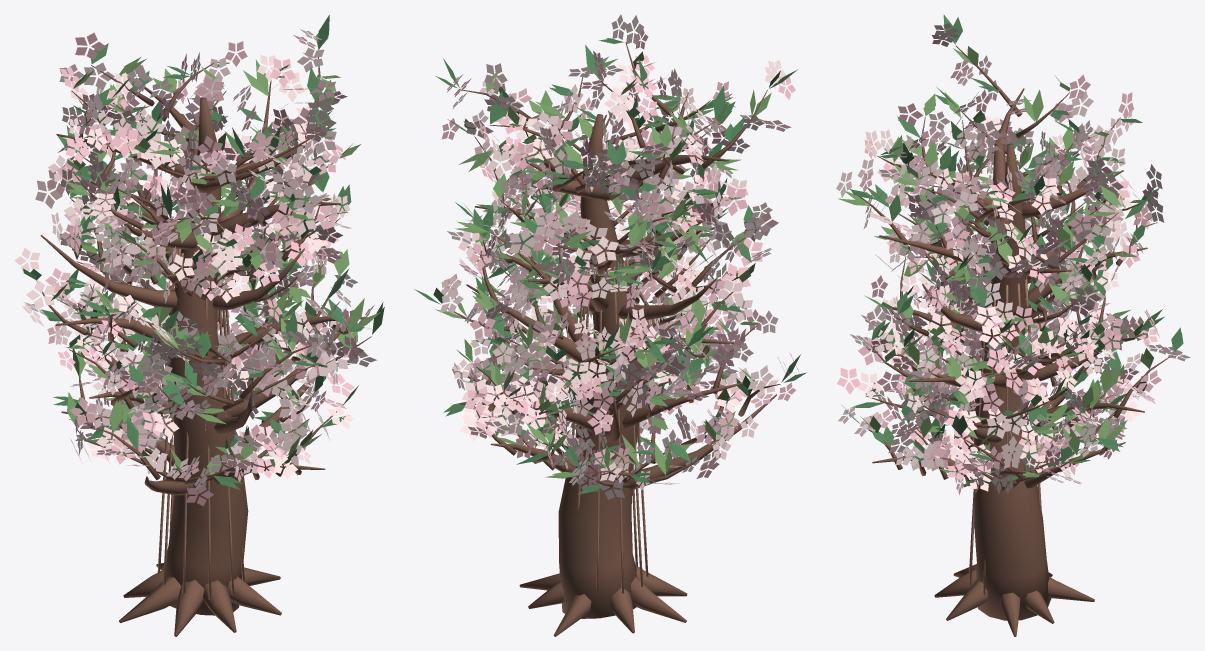
The model's file is flowering.glb.
3 renders of one model, left to right at view 1: azimuth 30°, elevation 25°; view 2: azimuth 150°, elevation 25°; view 3: azimuth 270°, elevation 25°, orthographic. The views are drawn at different scales.
Visible parts, largest first — view 1: Blossoms 2, Flowering trunk and branches, Blossoms 1, Flowering leaves 2, Flowering leaves 1, Flowering raised bark; view 2: Blossoms 2, Flowering trunk and branches, Blossoms 1, Flowering leaves 2, Flowering leaves 1, Flowering raised bark; view 3: Blossoms 2, Flowering trunk and branches, Blossoms 1, Flowering leaves 1, Flowering leaves 2, Flowering raised bark.
Part boxes in pixels (x1,y1,x2,y2): Blossoms 2: [14, 29, 376, 492]; Flowering trunk and branches: [36, 57, 371, 636]; Blossoms 1: [45, 32, 372, 506]; Flowering leaves 2: [23, 14, 384, 489]; Flowering leaves 1: [51, 57, 380, 476]; Flowering raised bark: [157, 248, 244, 600]; Blossoms 2: [440, 14, 790, 499]; Flowering trunk and branches: [447, 42, 780, 636]; Blossoms 1: [441, 29, 799, 489]; Flowering leaves 2: [414, 38, 806, 494]; Flowering leaves 1: [435, 51, 771, 478]; Flowering raised bark: [571, 257, 648, 593]; Blossoms 2: [836, 23, 1190, 493]; Flowering trunk and branches: [850, 45, 1172, 636]; Blossoms 1: [837, 35, 1182, 494]; Flowering leaves 1: [838, 46, 1157, 487]; Flowering leaves 2: [842, 14, 1183, 481]; Flowering raised bark: [969, 276, 1041, 594].
Bounding box in the file's own units: 1.43 × 2.35 × 1.45.
